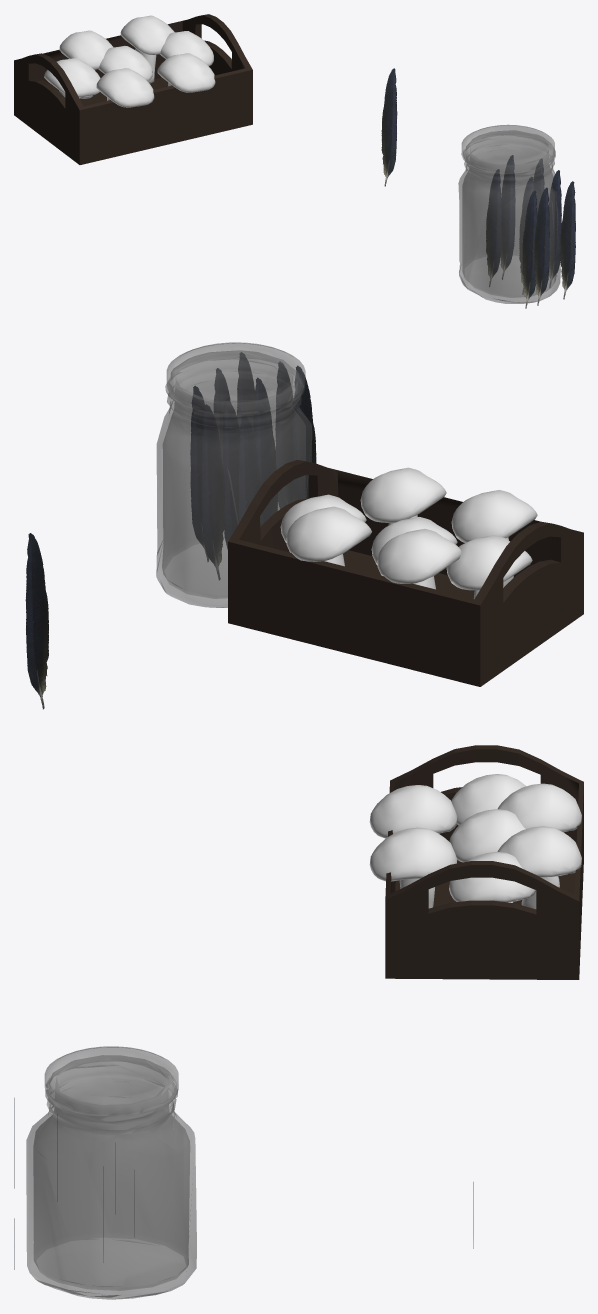
File: Contenedores.fbx
3 renders of one model, top to bottom at view 1: azimuth 30°, elevation 25°; view 2: azimuth 150°, elevation 25°; view 3: azimuth 270°, elevation 25°, orthographic. The views are drawn at different scales.
Parts seen in each view (by area): view 1: Lion_Skele.004, FrascoPlumas, Pluma; view 2: Lion_Skele.004, FrascoPlumas, Pluma; view 3: Lion_Skele.004, FrascoPlumas.
Boxes of the visible parts, bbox=[...] form: Lion_Skele.004: bbox=[14, 14, 252, 164]; FrascoPlumas: bbox=[458, 124, 575, 308]; Pluma: bbox=[381, 68, 397, 186]; Lion_Skele.004: bbox=[228, 460, 583, 686]; FrascoPlumas: bbox=[156, 342, 316, 607]; Pluma: bbox=[25, 533, 48, 709]; Lion_Skele.004: bbox=[369, 745, 583, 979]; FrascoPlumas: bbox=[14, 1046, 196, 1299].
Bounding box in the file's own units: 102 × 54.37 × 94.17.
4 materials, 1 textured.
